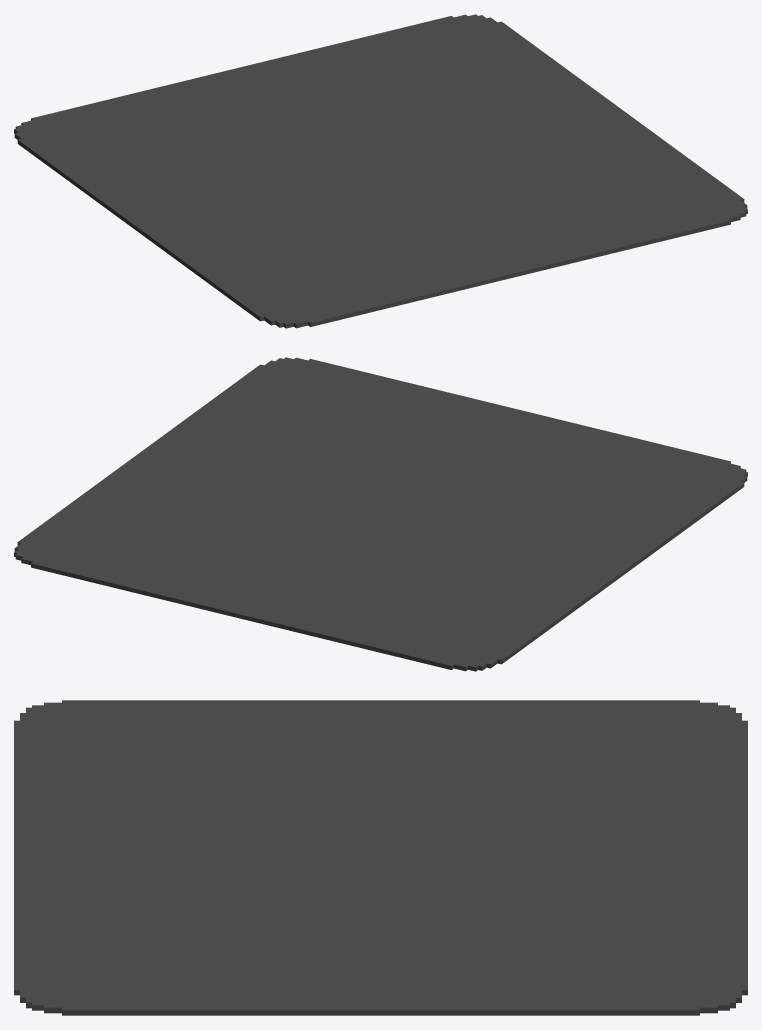
File: image_placeholder.obj
3 views of the same model, one above another, from view 1: azimuth 30°, elevation 25°; view 2: azimuth 150°, elevation 25°; view 3: azimuth 270°, elevation 25° (orthographic). The views are drawn at different scales.
Size of the model in its own units: 12.2 by 0.1 by 12.2.
1 material, 1 textured.
